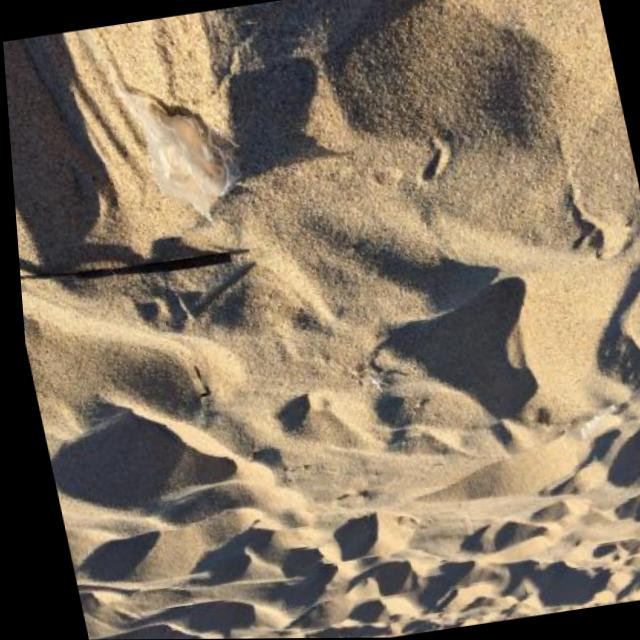plastic: (116, 72, 252, 234)
